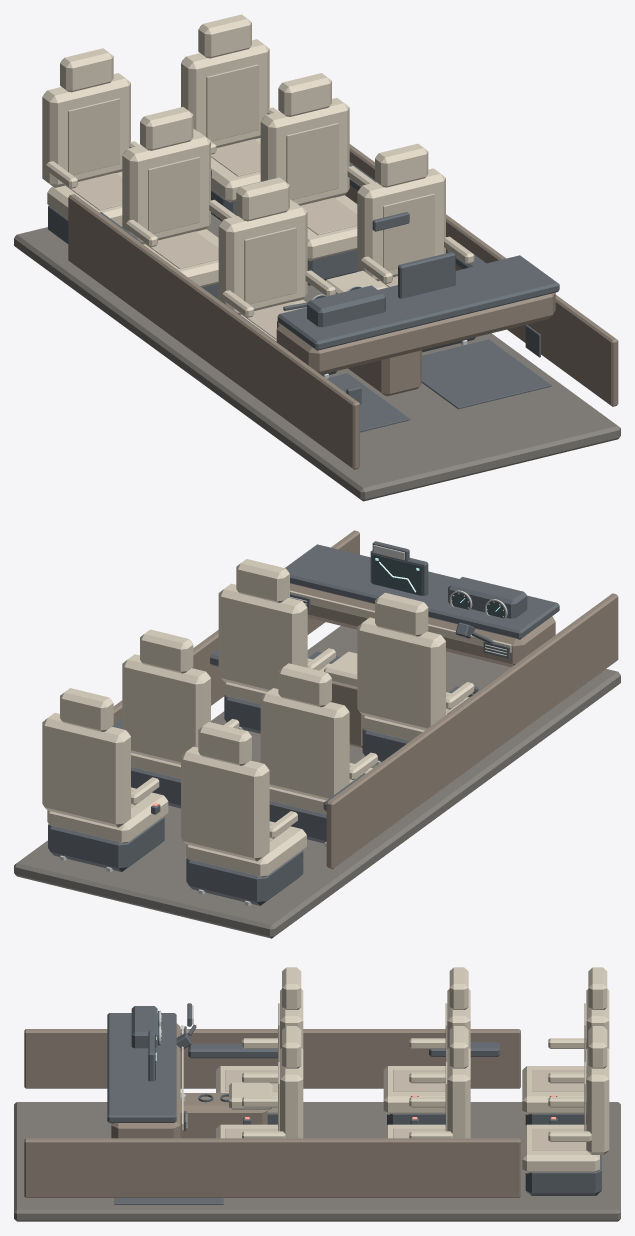
Rendered from Interior.glb.
3 views of the same model, one above another, from view 1: azimuth 30°, elevation 25°; view 2: azimuth 150°, elevation 25°; view 3: azimuth 270°, elevation 25° (orthographic). The views are drawn at different scales.
Parts seen in each view (by area): view 1: Interior_SandUpholstery, Interior_WalnutDashboard, Interior_CabinFloor, Interior_SeatInsert, Interior_CharcoalTrim; view 2: Interior_SandUpholstery, Interior_WalnutDashboard, Interior_CabinFloor, Interior_CharcoalTrim, Interior_ScreenBlack, Interior_MatteAlloy; view 3: Interior_WalnutDashboard, Interior_CabinFloor, Interior_SandUpholstery, Interior_CharcoalTrim, Interior_SeatInsert.
Boxes of the visible parts, x1,y1,x2,y2 form: Interior_SandUpholstery: [42, 14, 474, 341]; Interior_WalnutDashboard: [68, 144, 618, 469]; Interior_CabinFloor: [14, 214, 620, 501]; Interior_SeatInsert: [65, 64, 434, 339]; Interior_CharcoalTrim: [48, 162, 559, 432]; Interior_SandUpholstery: [42, 559, 511, 877]; Interior_WalnutDashboard: [113, 530, 618, 868]; Interior_CabinFloor: [14, 626, 620, 938]; Interior_CharcoalTrim: [48, 541, 559, 905]; Interior_ScreenBlack: [372, 554, 507, 618]; Interior_MatteAlloy: [60, 545, 507, 906]; Interior_WalnutDashboard: [24, 1023, 520, 1197]; Interior_CabinFloor: [14, 1102, 620, 1221]; Interior_SandUpholstery: [161, 967, 609, 1173]; Interior_CharcoalTrim: [107, 1003, 601, 1204]; Interior_SeatInsert: [225, 1003, 586, 1150].
Size of the model in its own units: 1.96 by 1.32 by 4.46.
